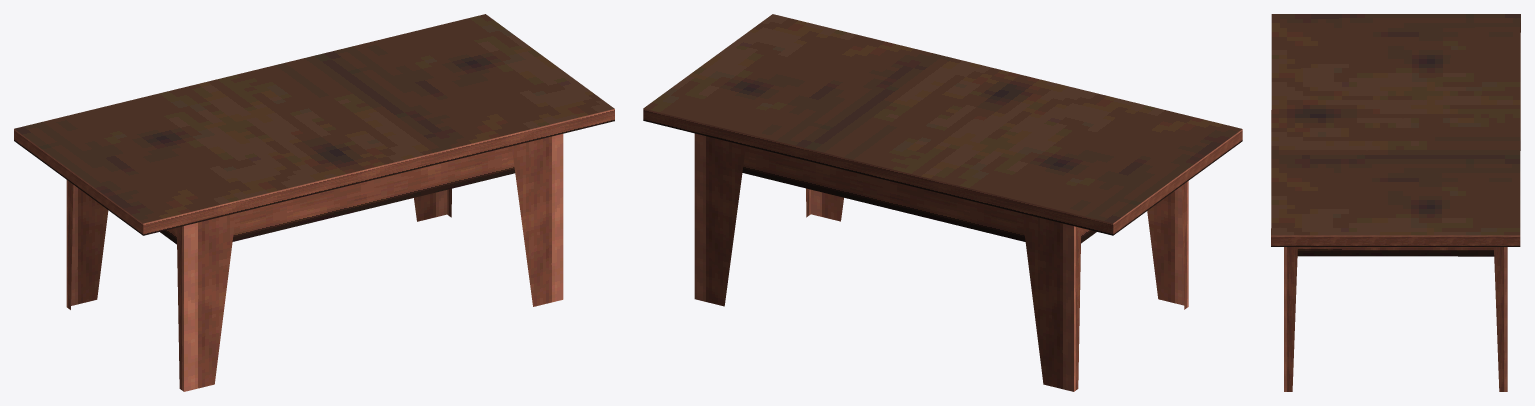
File: wooden_table.glb
3 renders of one model, left to right at view 1: azimuth 30°, elevation 25°; view 2: azimuth 150°, elevation 25°; view 3: azimuth 270°, elevation 25°, orthographic. The views are drawn at different scales.
Parts seen in each view (by area): view 1: Object; view 2: Object; view 3: Object.
Boxes of the visible parts, box(x1,y1,x2,y2) form: Object: box(14, 14, 614, 391); Object: box(643, 14, 1242, 391); Object: box(1271, 14, 1520, 391).
Size of the model in its own units: 3.02 by 1.13 by 1.44.
Materials: 4 (4 with a texture image).
